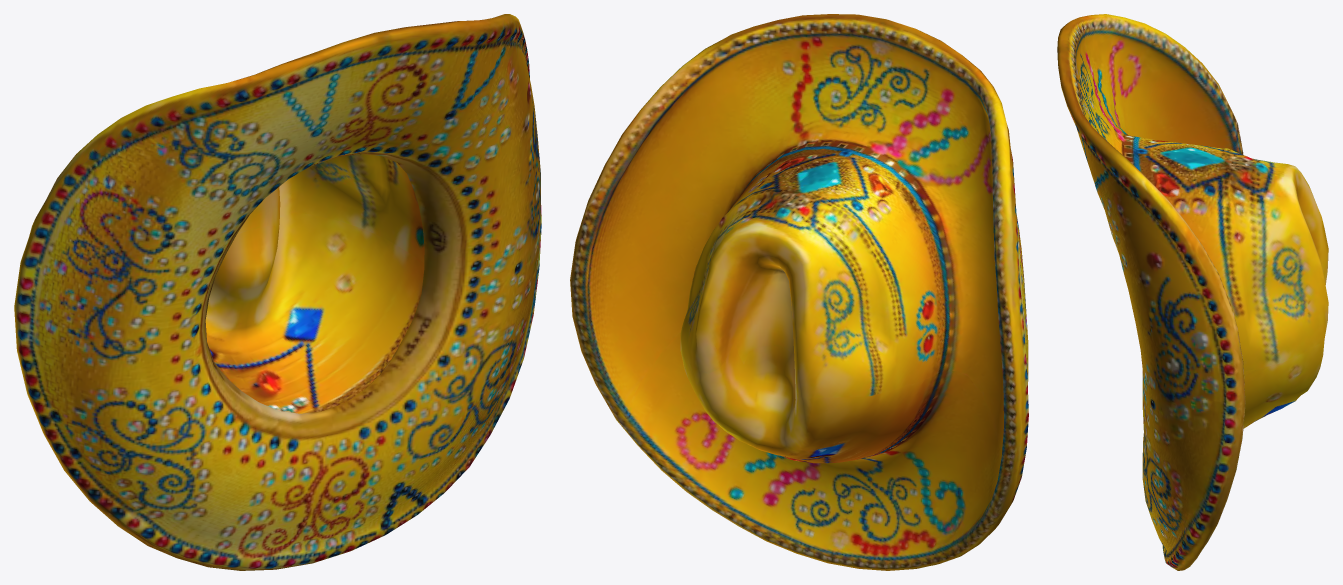
The model's file is somb.glb.
3 views of the same model, side by side, from view 1: azimuth 30°, elevation 25°; view 2: azimuth 150°, elevation 25°; view 3: azimuth 270°, elevation 25° (orthographic). The views are drawn at different scales.
Visible parts, largest first — view 1: sombrero; view 2: sombrero; view 3: sombrero.
Boxes of the visible parts, x1=… form: sombrero: x1=14, y1=14, x2=541, y2=570; sombrero: x1=570, y1=14, x2=1028, y2=570; sombrero: x1=1057, y1=14, x2=1328, y2=570.
Size of the model in its own units: 0.4203 by 0.444 by 0.2195.
Materials: 1 (1 with a texture image).
